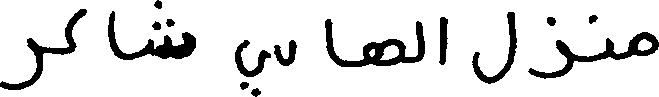X: (474, 7, 513, 88), (532, 12, 572, 83), (149, 0, 192, 63), (0, 33, 42, 94), (235, 35, 264, 96), (365, 34, 402, 70), (65, 4, 85, 58), (266, 35, 292, 70), (632, 27, 658, 60), (109, 6, 121, 63), (326, 14, 337, 69), (417, 16, 423, 66), (440, 12, 445, 69), (607, 33, 611, 62)
